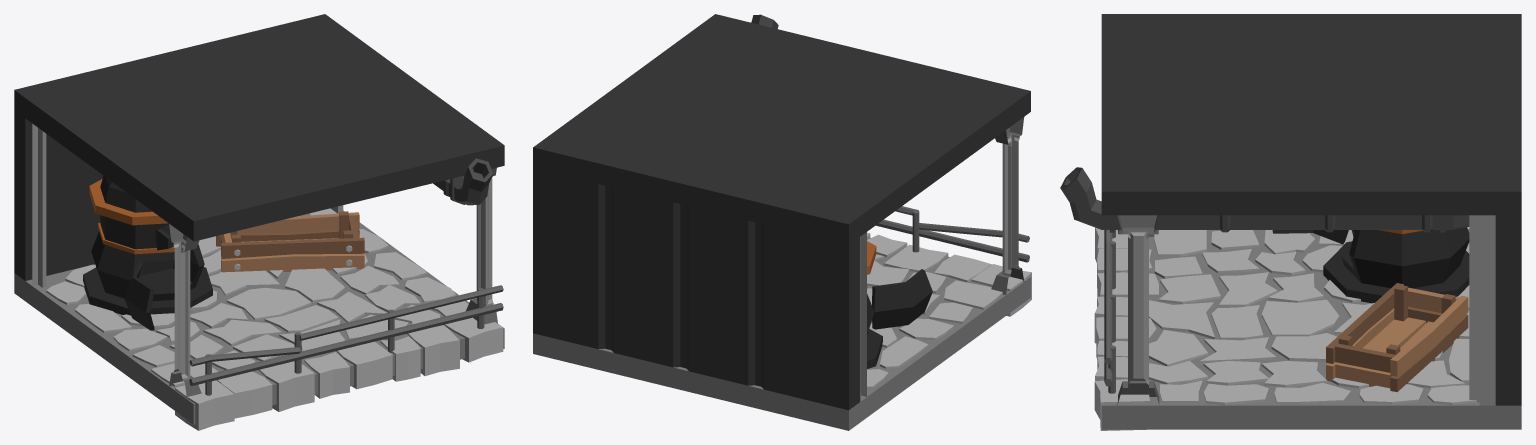
File: CoalGenerator_Level_01_StraightLeftRight.fbx
3 renders of one model, left to right at view 1: azimuth 30°, elevation 25°; view 2: azimuth 150°, elevation 25°; view 3: azimuth 270°, elevation 25°, orthographic. The views are drawn at different scales.
Parts seen in each view (by area): view 1: CoalGenerator_Level_01_StraightLeftRight; view 2: CoalGenerator_Level_01_StraightLeftRight; view 3: CoalGenerator_Level_01_StraightLeftRight.
Boxes of the visible parts, x1,y1,x2,y2 form: CoalGenerator_Level_01_StraightLeftRight: (14, 14, 504, 430); CoalGenerator_Level_01_StraightLeftRight: (533, 14, 1031, 430); CoalGenerator_Level_01_StraightLeftRight: (1060, 14, 1521, 430).
Size of the model in its own units: 8 by 5.21 by 8.79.
